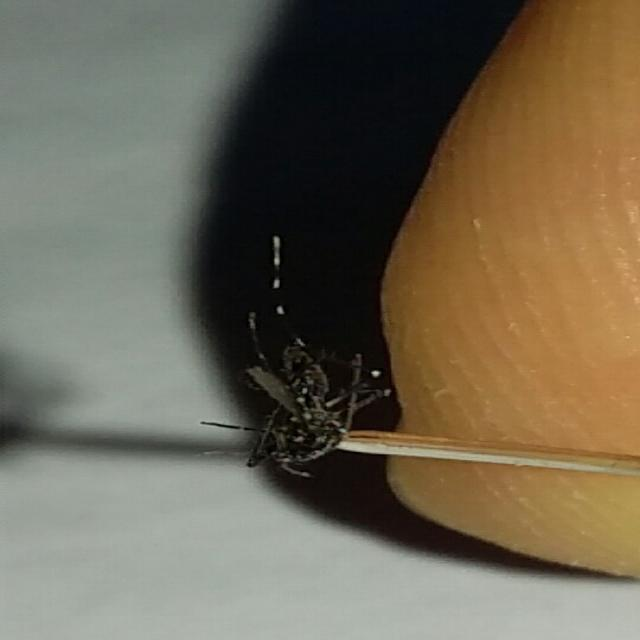albopictus: (188, 293, 426, 470)
